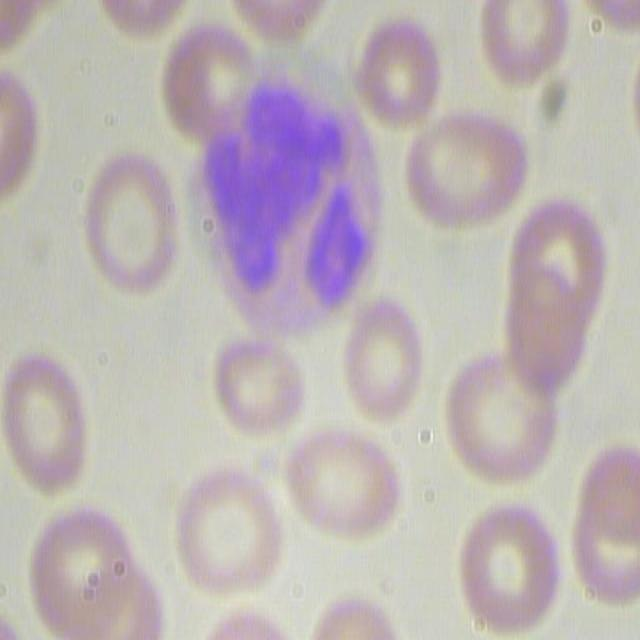RBC: (494, 188, 606, 393), (24, 505, 158, 640), (439, 353, 563, 487), (400, 110, 525, 235), (168, 465, 284, 598), (455, 496, 564, 635), (84, 149, 184, 299), (281, 428, 402, 547), (209, 339, 330, 444), (156, 15, 257, 140), (332, 289, 426, 423), (0, 356, 90, 495), (353, 7, 446, 136), (566, 442, 640, 604), (475, 0, 575, 80), (217, 605, 426, 640), (0, 65, 43, 200), (222, 0, 329, 53), (92, 0, 193, 36)
WBC: (209, 58, 393, 333)
